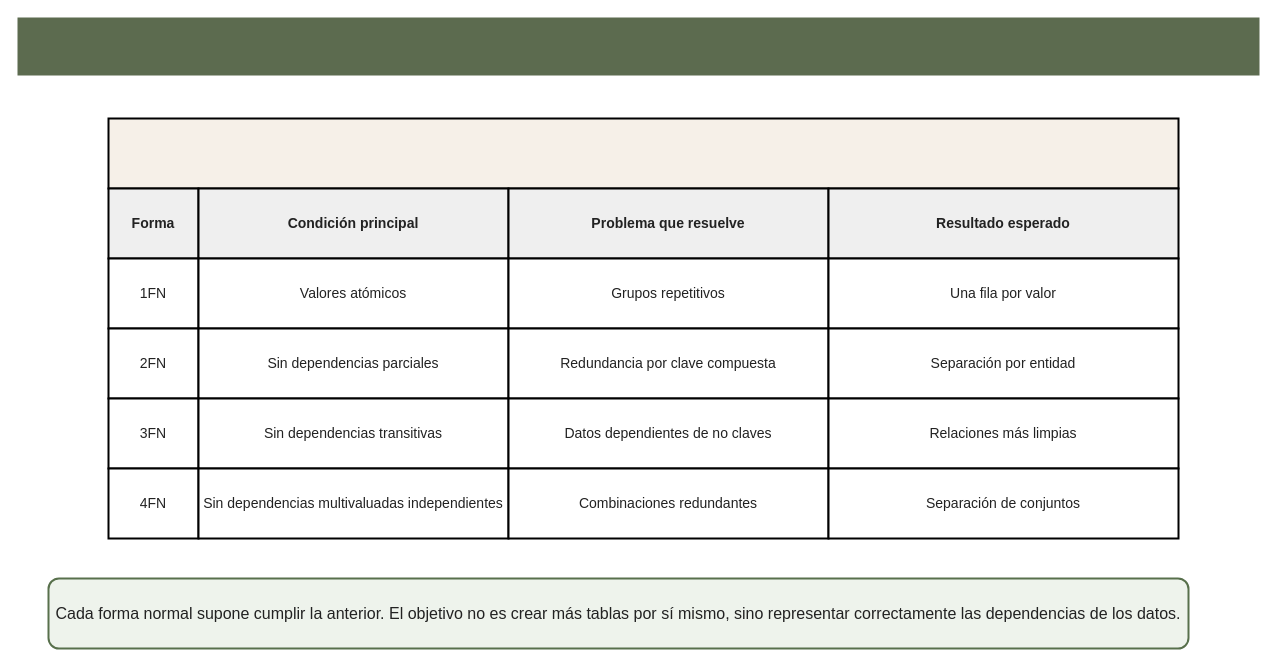
This 1276x666 diagram has some shape labels left out. Each missing label, with the box of its shape:
COMPARACIÓN: (107, 117, 1179, 189)
Resumen de las formas normales: (17, 17, 1259, 75)
